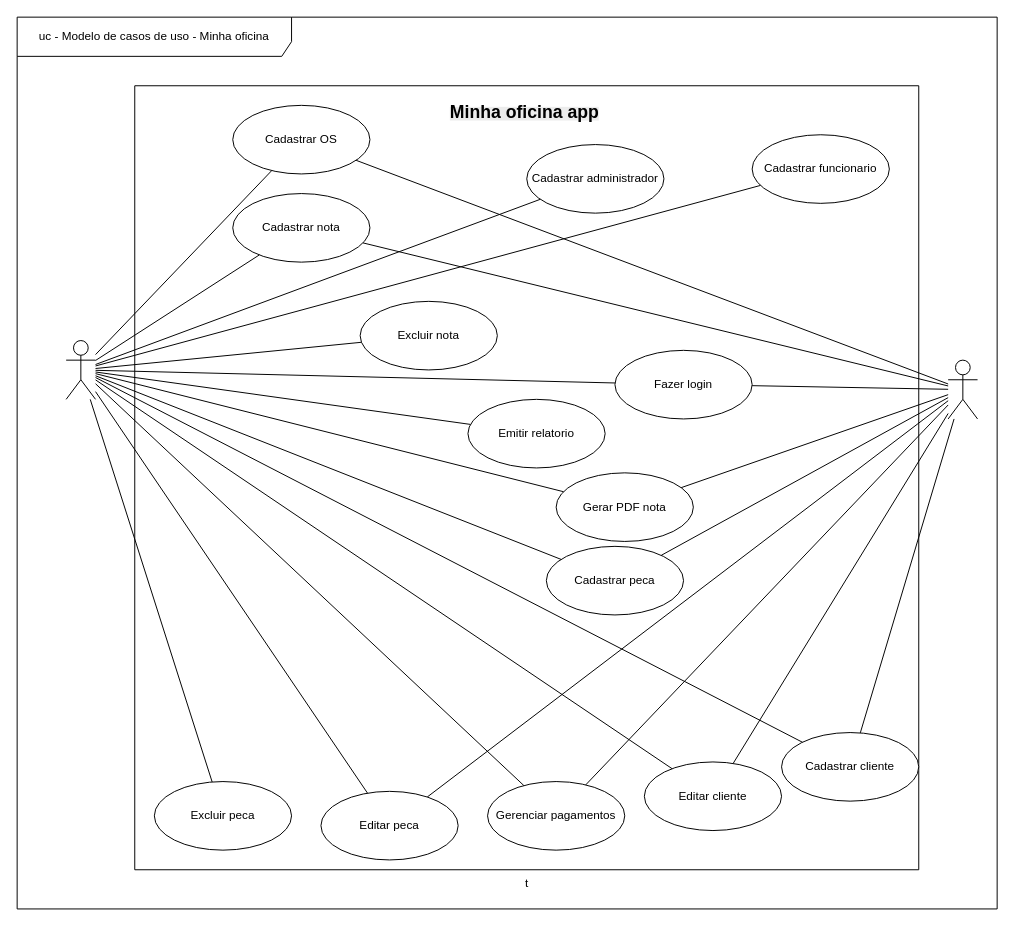
The diagram is 1014 pixels wide and 926 high, and some of its shapes have lost their labels. The centre of each missing label's shape, as x and y in pixels:
Administrador: the point at 80,369
Funcionario: the point at 962,389
